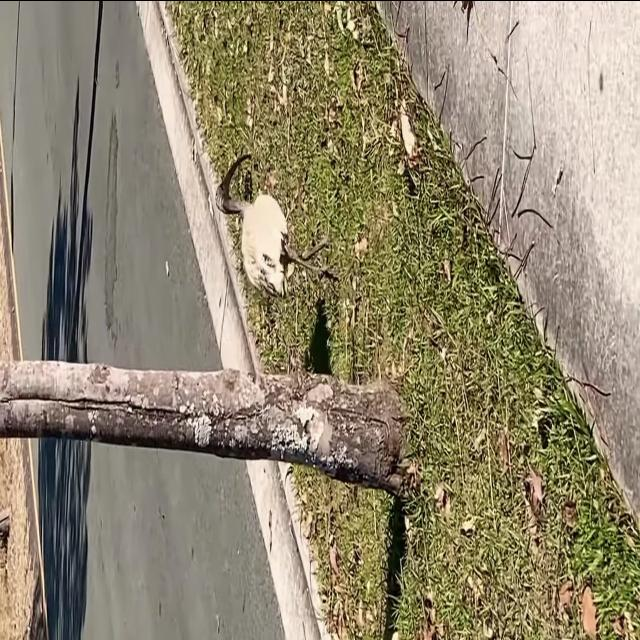Birds-Ibis: (210, 148, 333, 312)
